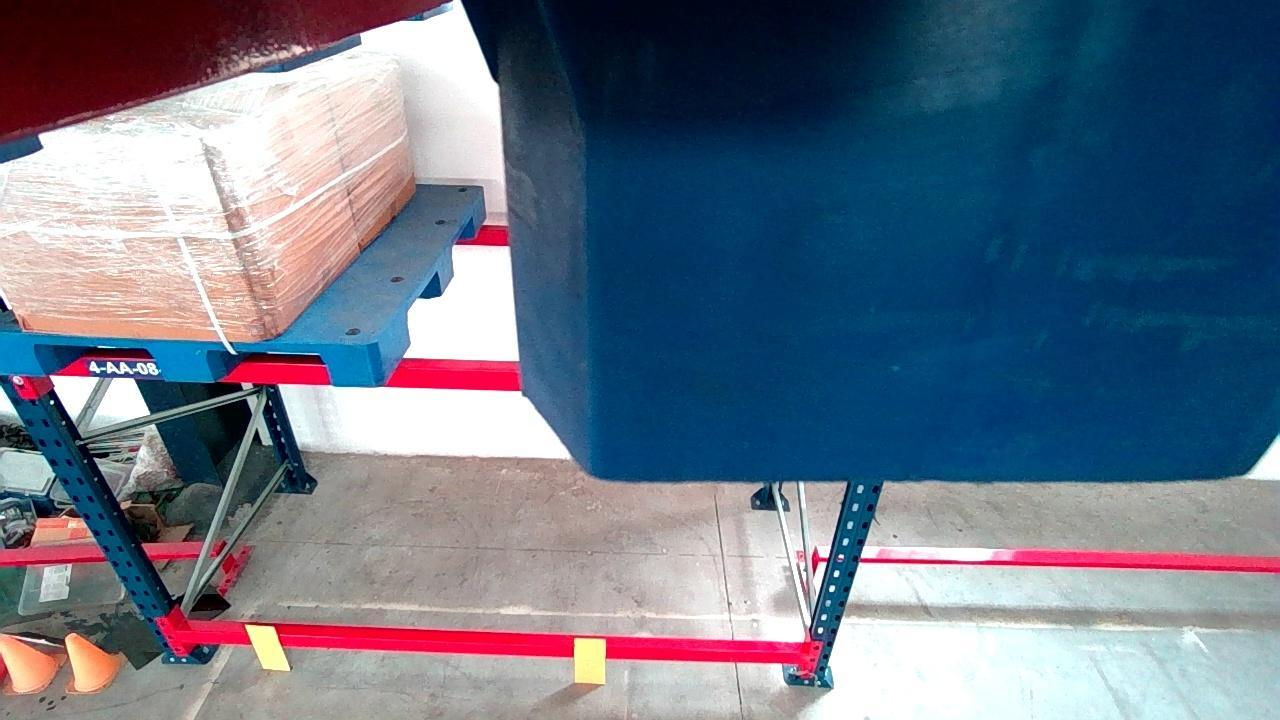h_rack: (177, 630, 802, 664), (60, 358, 518, 391)
orange_strip: (247, 625, 289, 670), (574, 640, 605, 684)
small_pallet: (1, 332, 374, 385)
